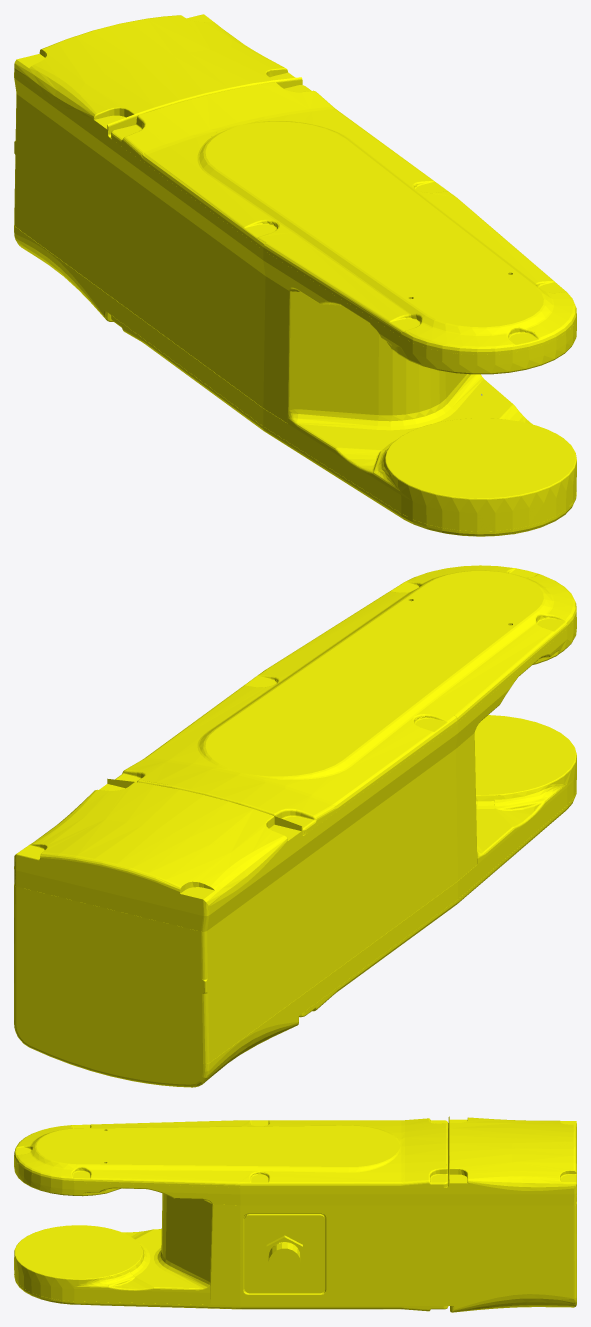
3 renders of one model, top to bottom at view 1: azimuth 30°, elevation 25°; view 2: azimuth 150°, elevation 25°; view 3: azimuth 270°, elevation 25°, orthographic. The views are drawn at different scales.
Visible parts, largest first — view 1: node; view 2: node; view 3: node.
Part boxes in pixels (x1,y1,x2,y2): node: (14,14,576,536); node: (14,565,576,1087); node: (14,1116,576,1312).
Size of the model in its own units: 114 by 105 by 373.
